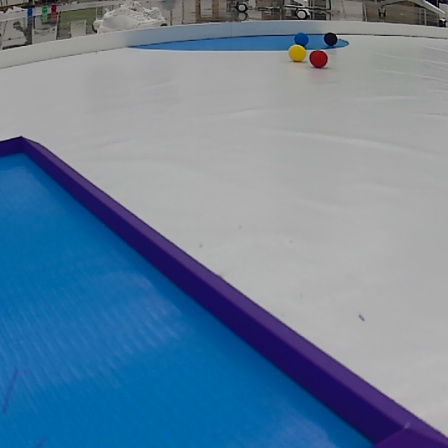black: (324, 31, 337, 47)
blue: (295, 34, 308, 46)
blue_aim: (3, 134, 444, 446)
blue_base: (128, 32, 354, 52)
red: (310, 51, 330, 67)
yellow: (287, 46, 303, 61)
